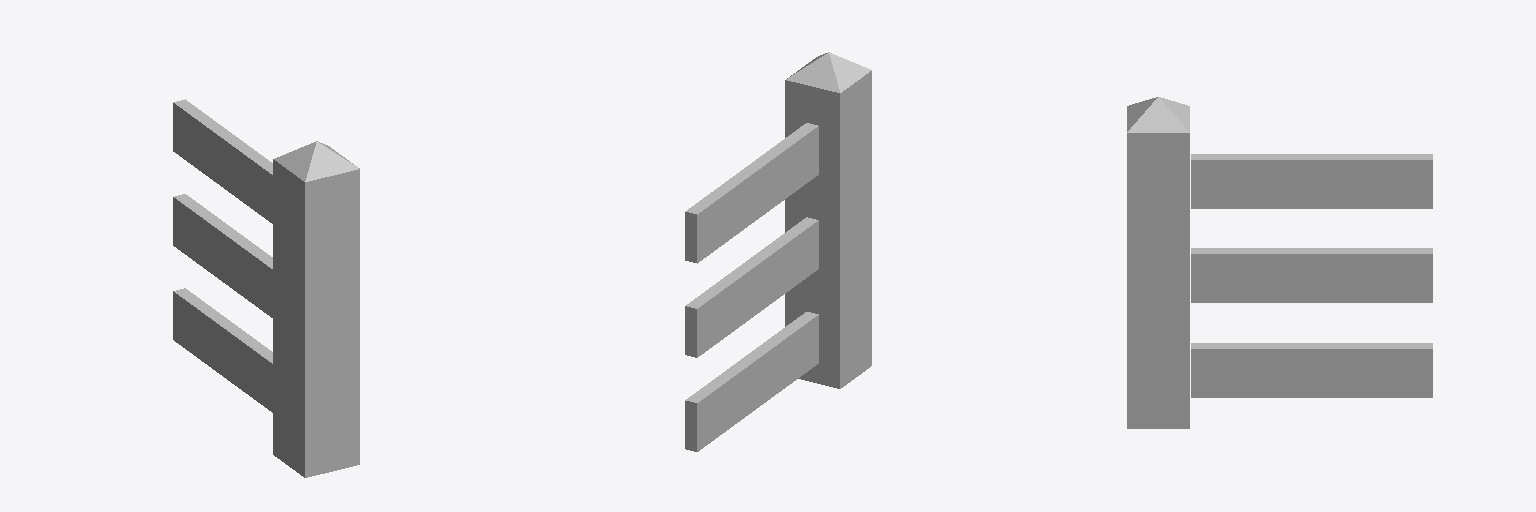
The model's file is protoFence.obj.
3 views of the same model, side by side, from view 1: azimuth 30°, elevation 25°; view 2: azimuth 150°, elevation 25°; view 3: azimuth 270°, elevation 25° (orthographic).
Parts seen in each view (by area): view 1: fence; view 2: fence; view 3: fence.
Boxes of the visible parts, <box> form: fence: <box>173,99,359,477</box>; fence: <box>685,52,871,451</box>; fence: <box>1127,97,1432,428</box>.
Bounding box in the file's own units: 0.2469 × 1.36 × 1.19.